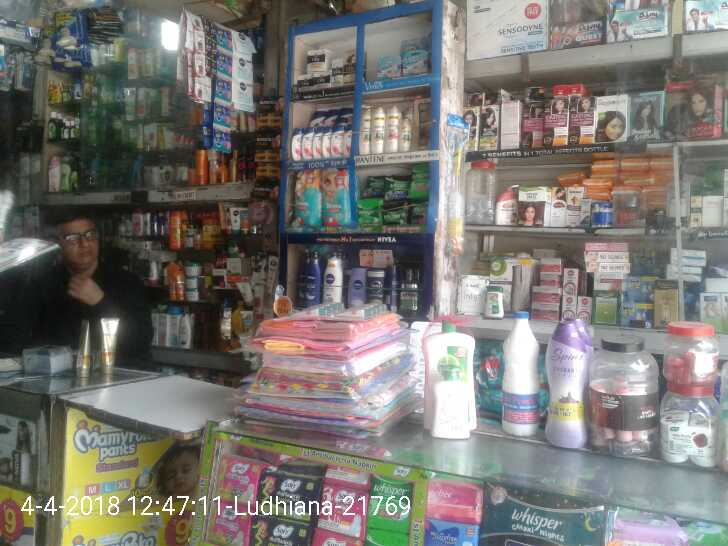venus: (403, 48, 430, 76), (378, 54, 400, 77)
